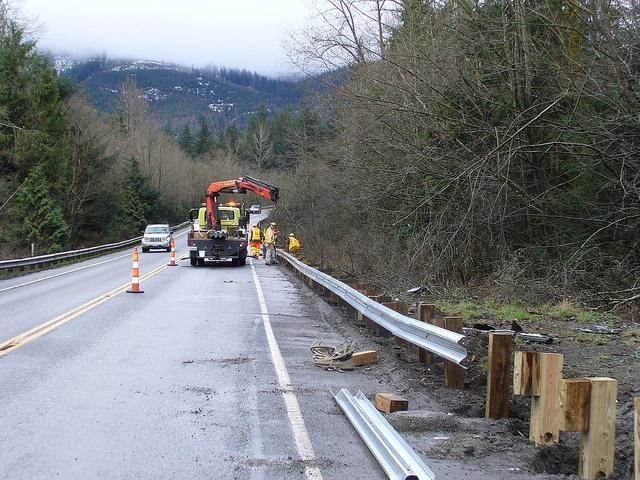car: (140, 223, 173, 253), (250, 204, 261, 214)
truck: (185, 175, 280, 266)
